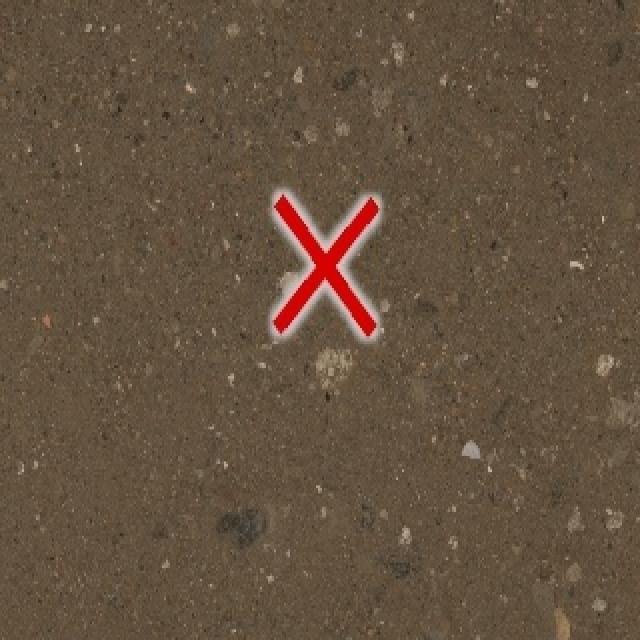x_marker: (273, 193, 377, 335)
